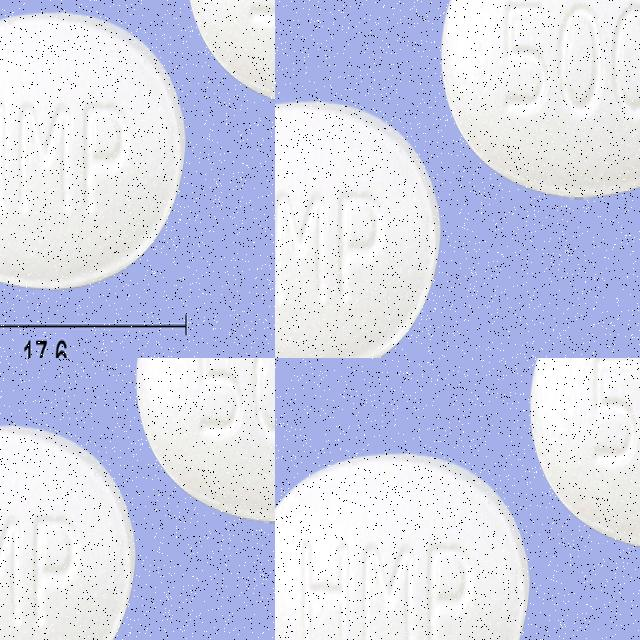Amocla: (0, 111, 275, 358)
Amoclan Duo Tab- Myungmoon: (275, 449, 533, 640), (525, 358, 640, 556)
Clasin: (275, 104, 451, 358), (422, 0, 640, 195)
Cycin - 500mg: (145, 358, 275, 640), (0, 358, 99, 640)
